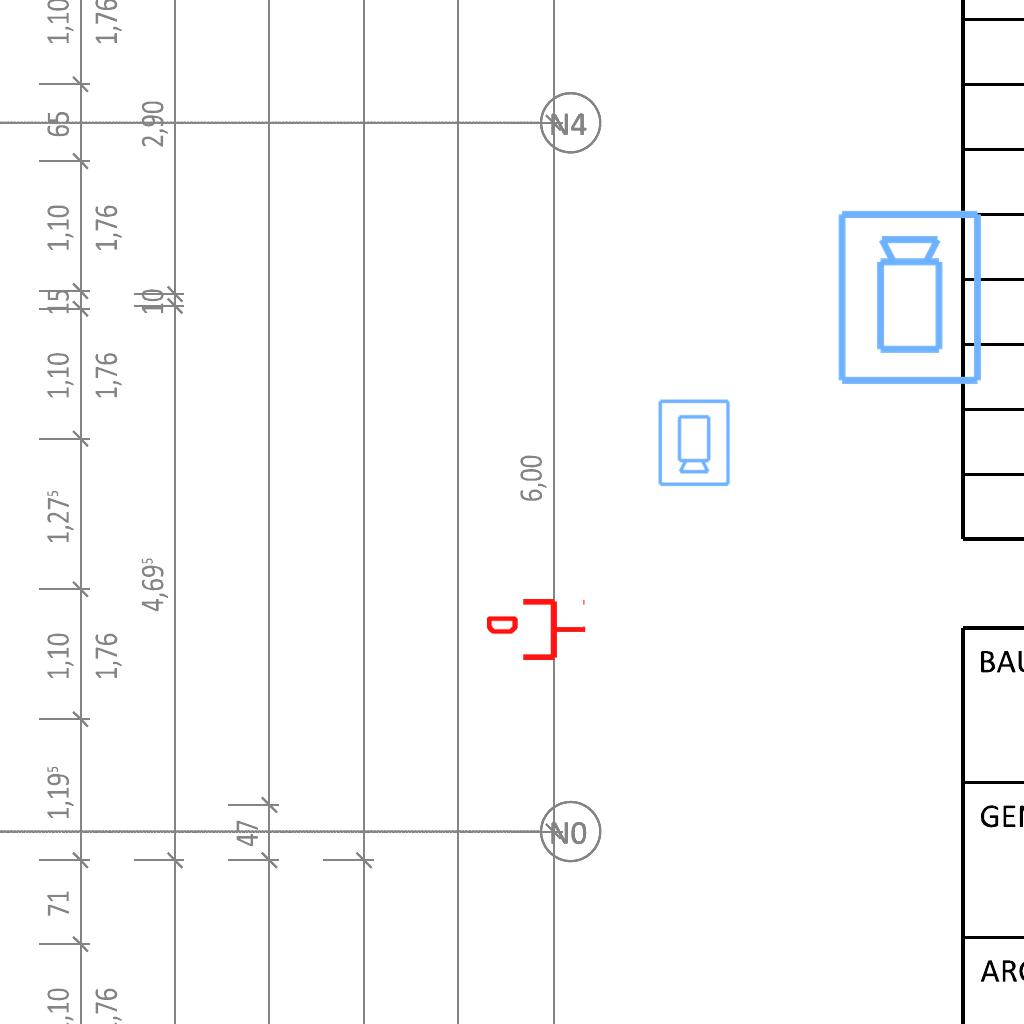Datenanschluss_einfach: (487, 595, 587, 664)
KFO_Kamera_mit_Festobjektiv: (834, 207, 988, 389), (655, 397, 732, 488)
